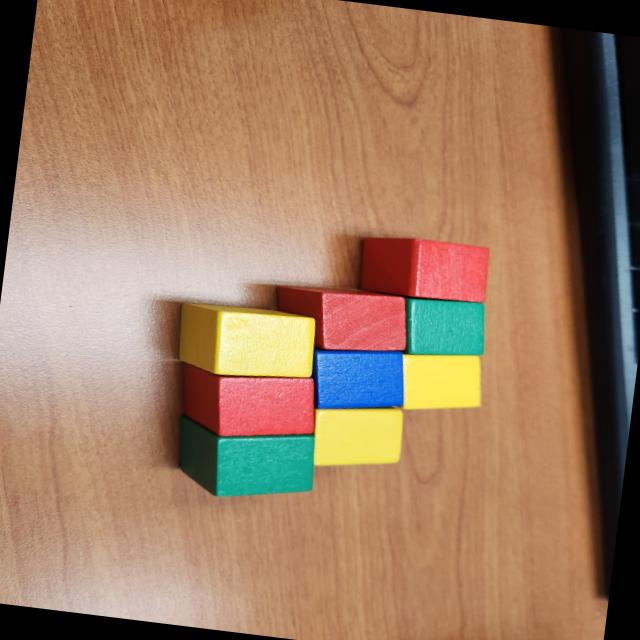blue: (308, 341, 412, 419)
green: (168, 416, 322, 511), (398, 292, 490, 364)
red: (172, 361, 320, 447), (272, 280, 414, 360), (350, 230, 492, 306)
yellow: (172, 298, 318, 386), (310, 399, 406, 477), (394, 347, 489, 418)
